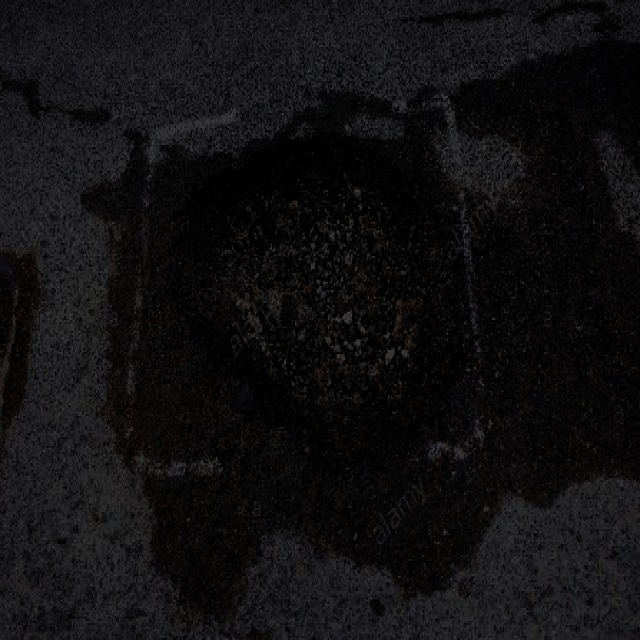Pothole: (162, 124, 472, 468)
